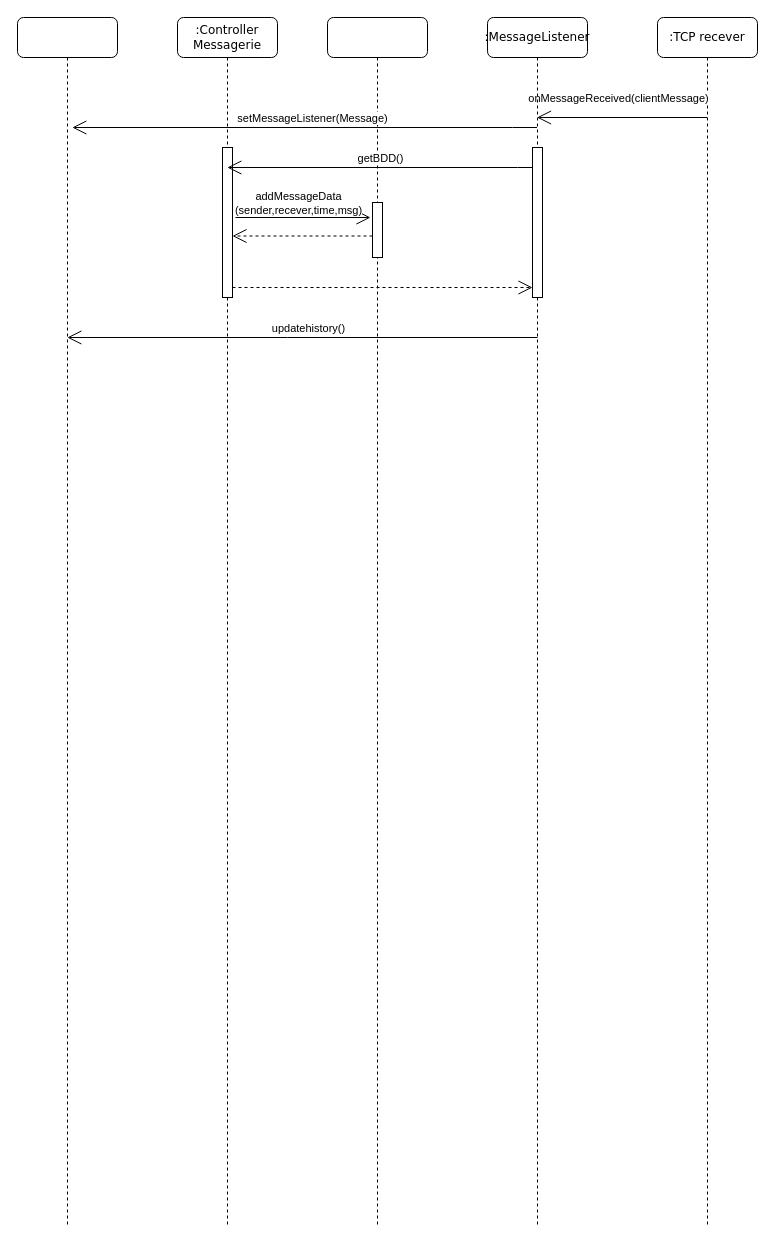
The diagram is 775 pixels wide and 1245 high, and some of its shapes have lost their labels. The box of each missing label's shape, as (x1, y1, x2, y2) in pixels:
:Base De Donnee: (326, 16, 428, 1228)
:View: (16, 16, 118, 1228)
